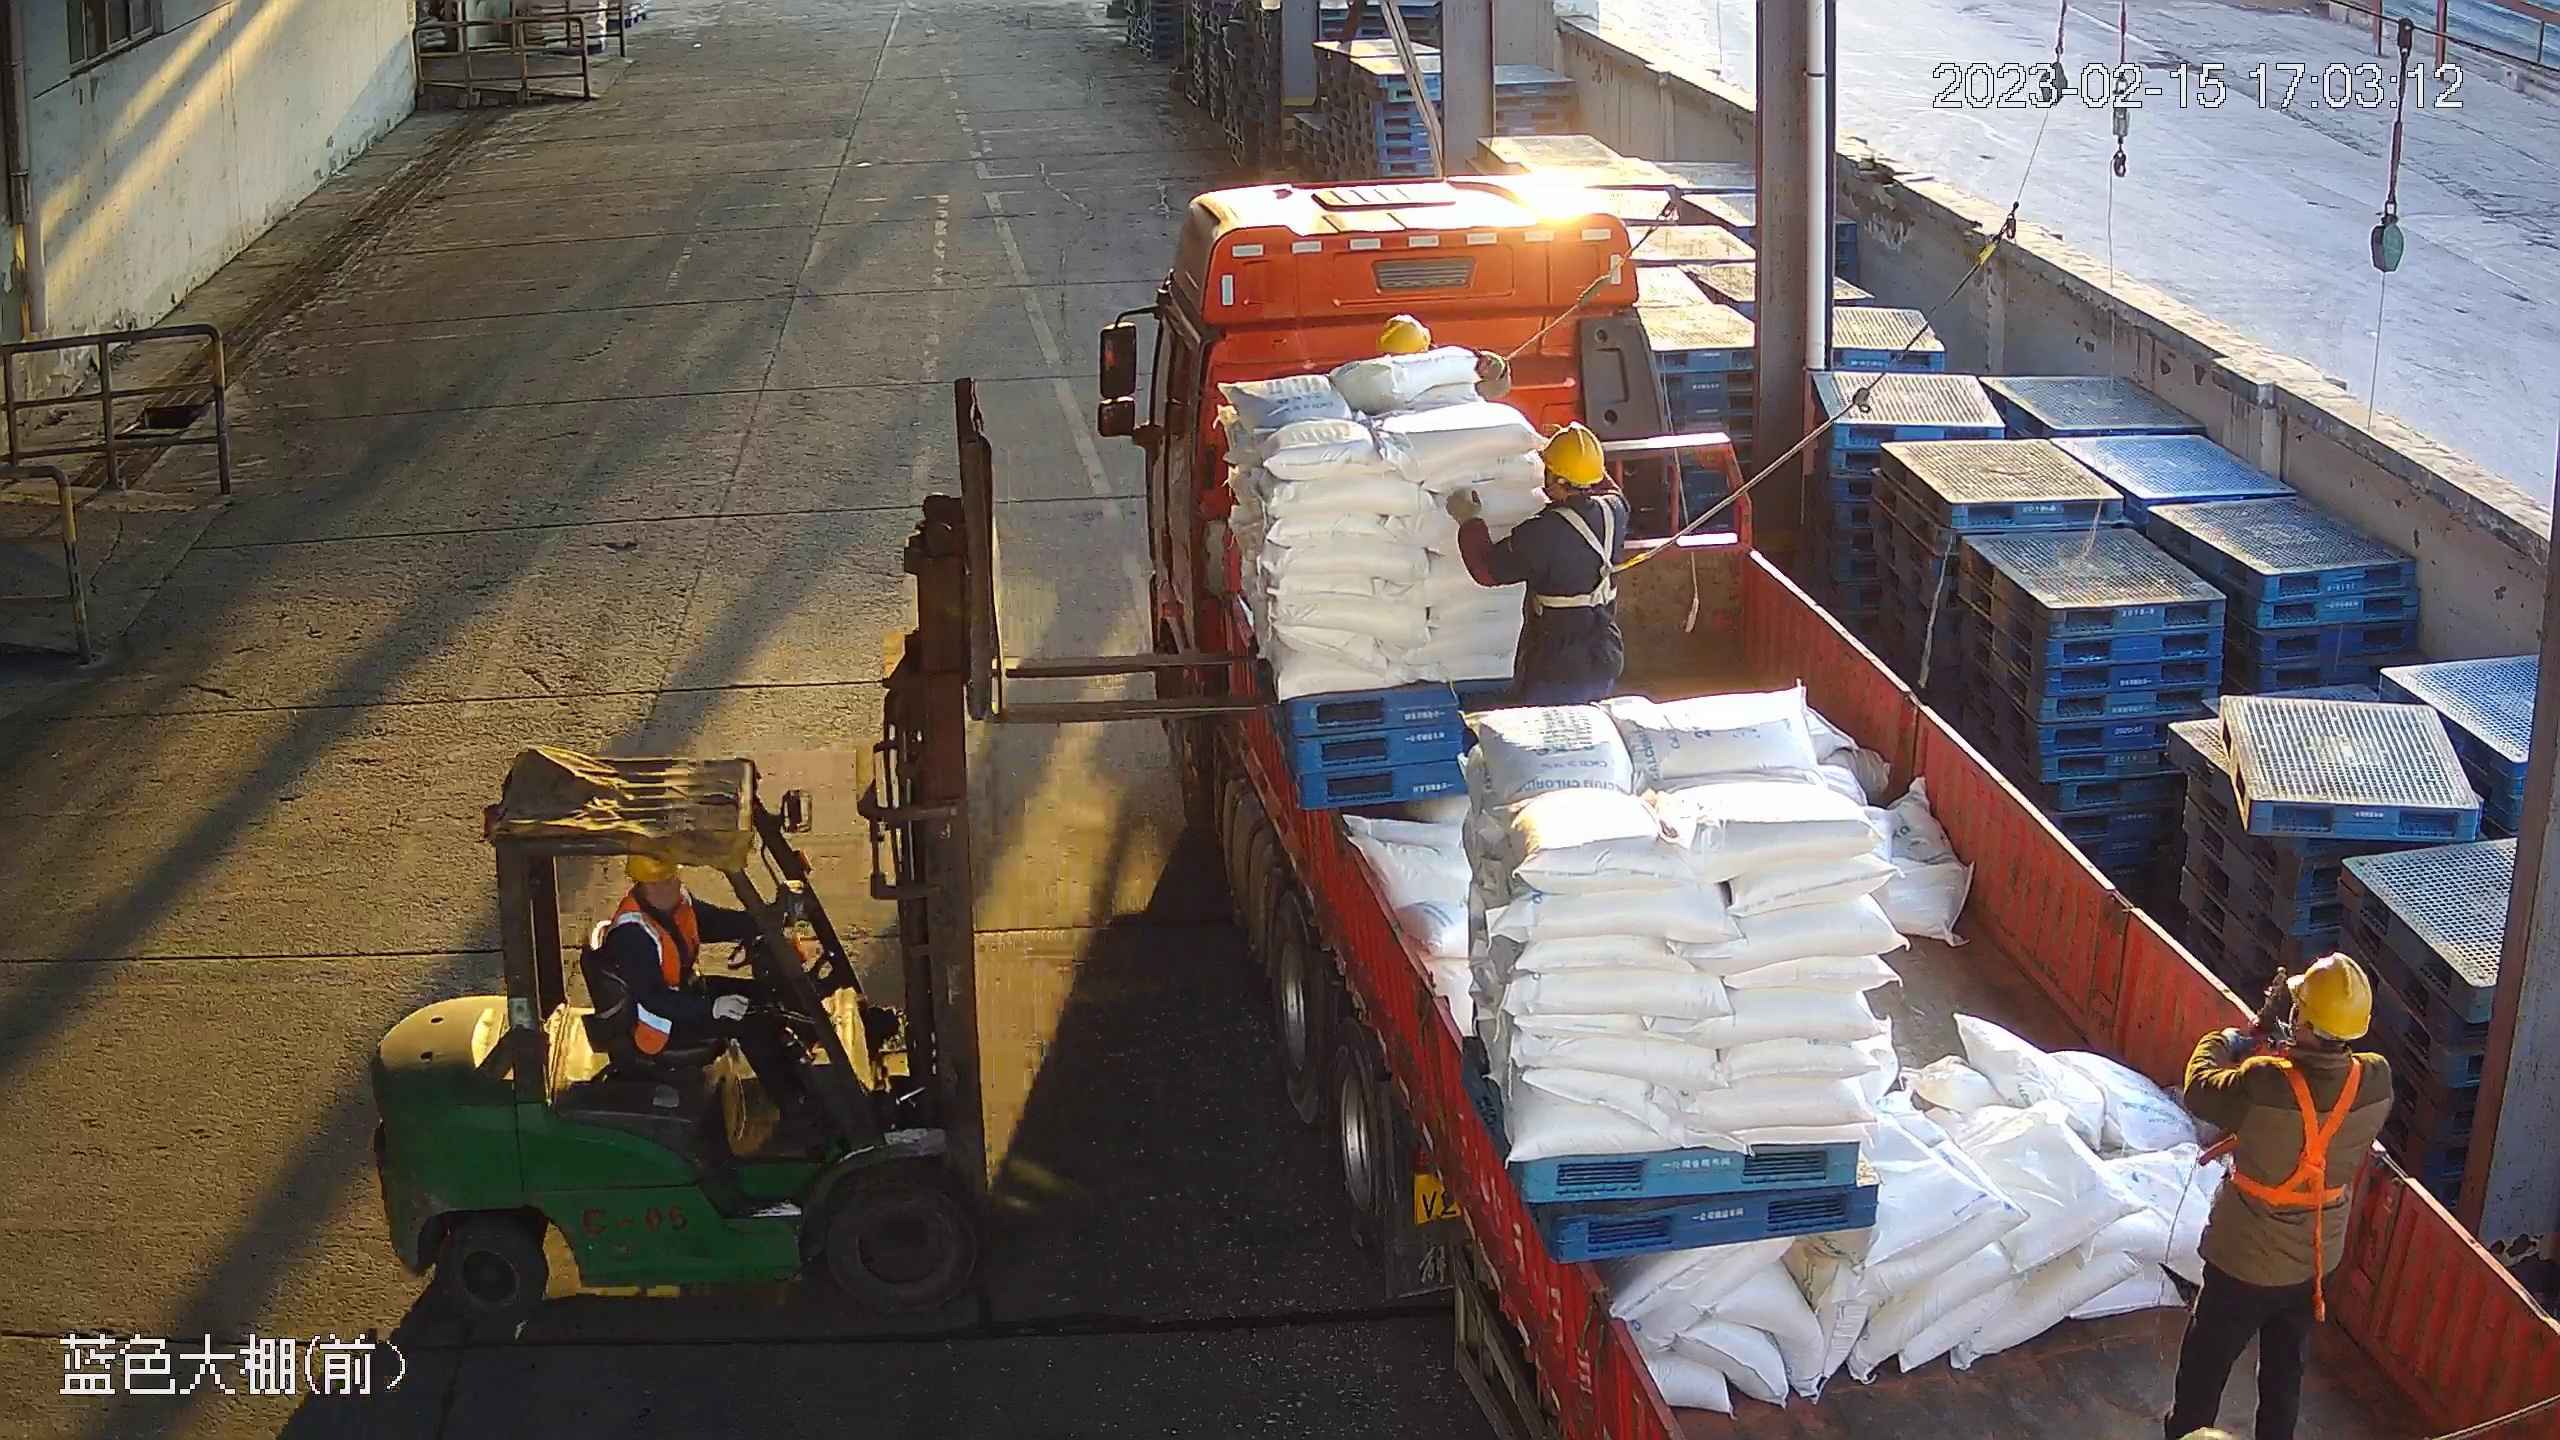belt: (2244, 1052, 2393, 1206), (1541, 503, 1657, 611)
head: (2242, 950, 2397, 1118), (602, 850, 721, 965), (1523, 420, 1628, 551)
helmet: (2283, 950, 2377, 1039), (1535, 422, 1611, 490), (1377, 313, 1434, 362), (616, 853, 681, 886)
people: (2169, 943, 2406, 1440), (574, 855, 851, 1160), (1441, 415, 1641, 704)
truck: (1136, 173, 2558, 1438)
